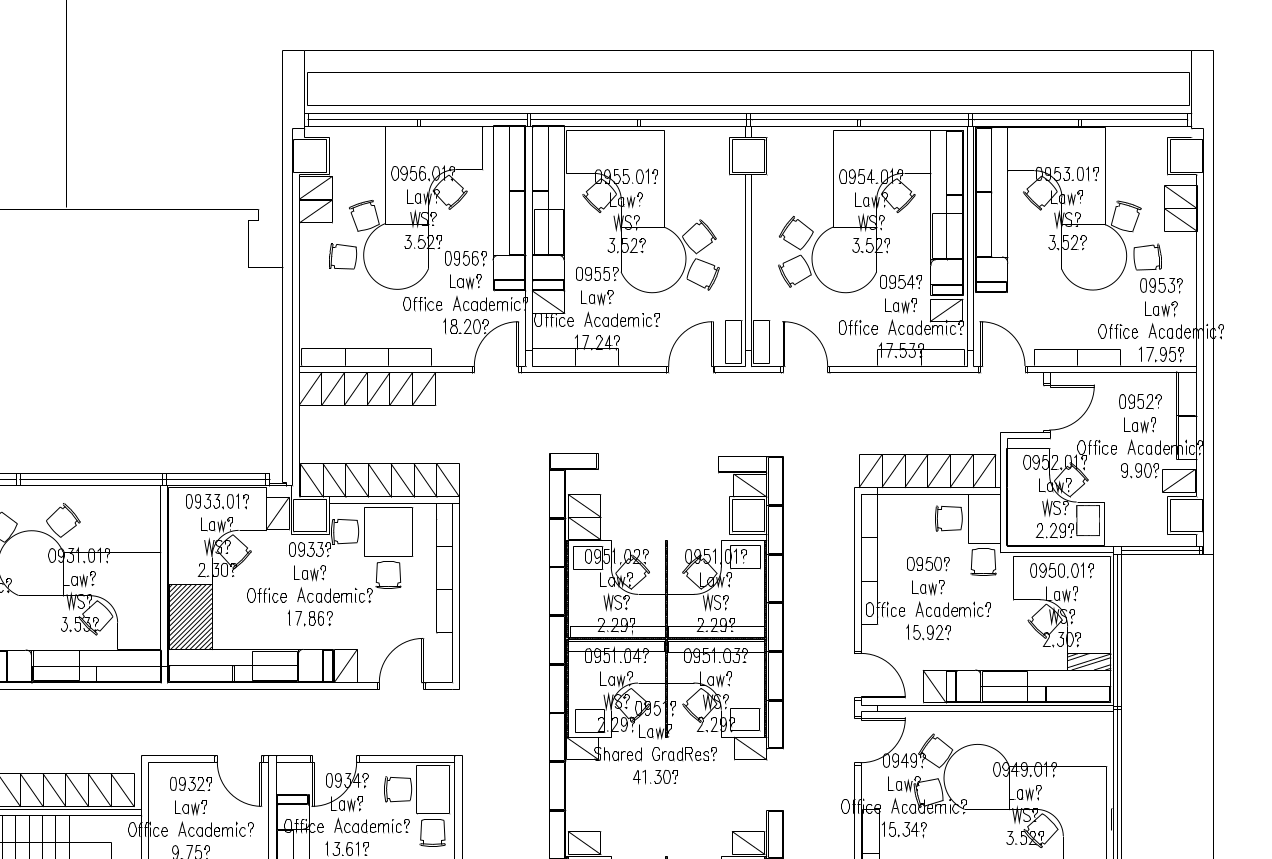door: (372, 634, 428, 695), (208, 748, 264, 809), (309, 746, 365, 807), (854, 714, 908, 771), (853, 645, 907, 702), (661, 317, 715, 374), (468, 317, 522, 374), (776, 316, 830, 373), (977, 316, 1031, 373), (1043, 380, 1098, 435)
